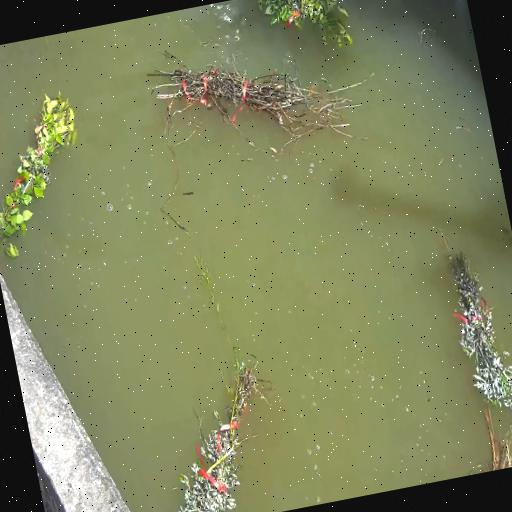twig: (148, 51, 358, 140), (178, 358, 259, 512), (0, 96, 73, 238), (449, 254, 512, 409), (258, 0, 352, 46), (486, 412, 512, 471)
